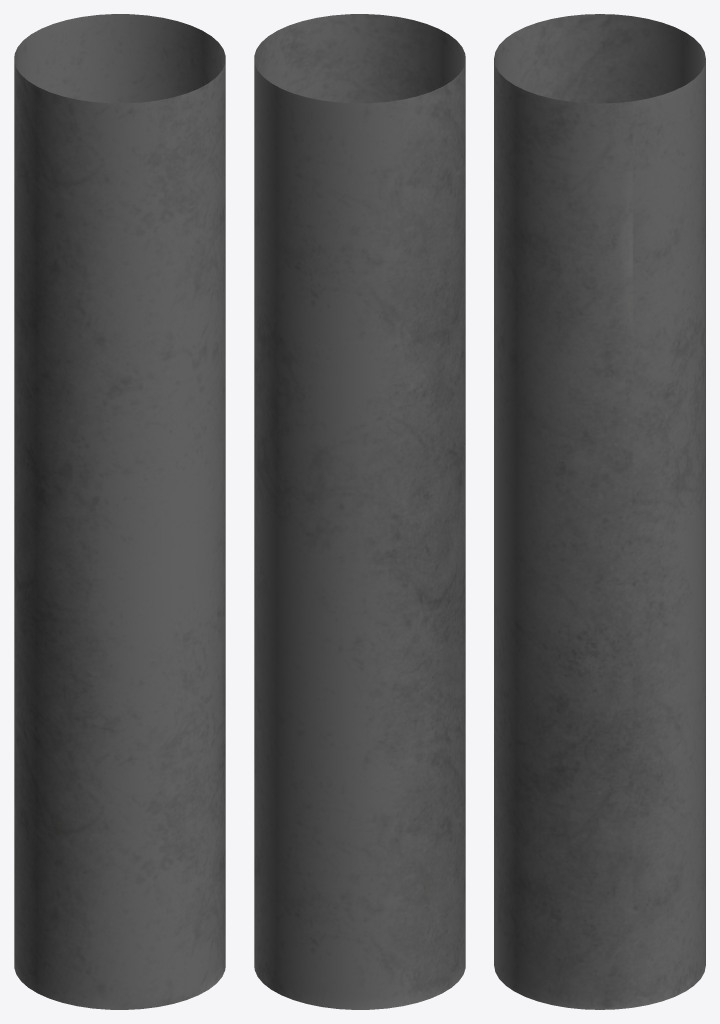
The model's file is TuboLongo.glb.
The picture shows the model from 3 angles, left to right: view 1: azimuth 30°, elevation 25°; view 2: azimuth 150°, elevation 25°; view 3: azimuth 270°, elevation 25°; orthographic projection.
Visible parts, largest first — view 1: pipe_long; view 2: pipe_long; view 3: pipe_long.
Part boxes in pixels (x1,y1,x2,y2): pipe_long: [14, 14, 225, 1009]; pipe_long: [254, 14, 465, 1009]; pipe_long: [494, 14, 705, 1009].
Bounding box in the file's own units: 0.0198 × 0.0932 × 0.0198.
1 material, 1 textured.
